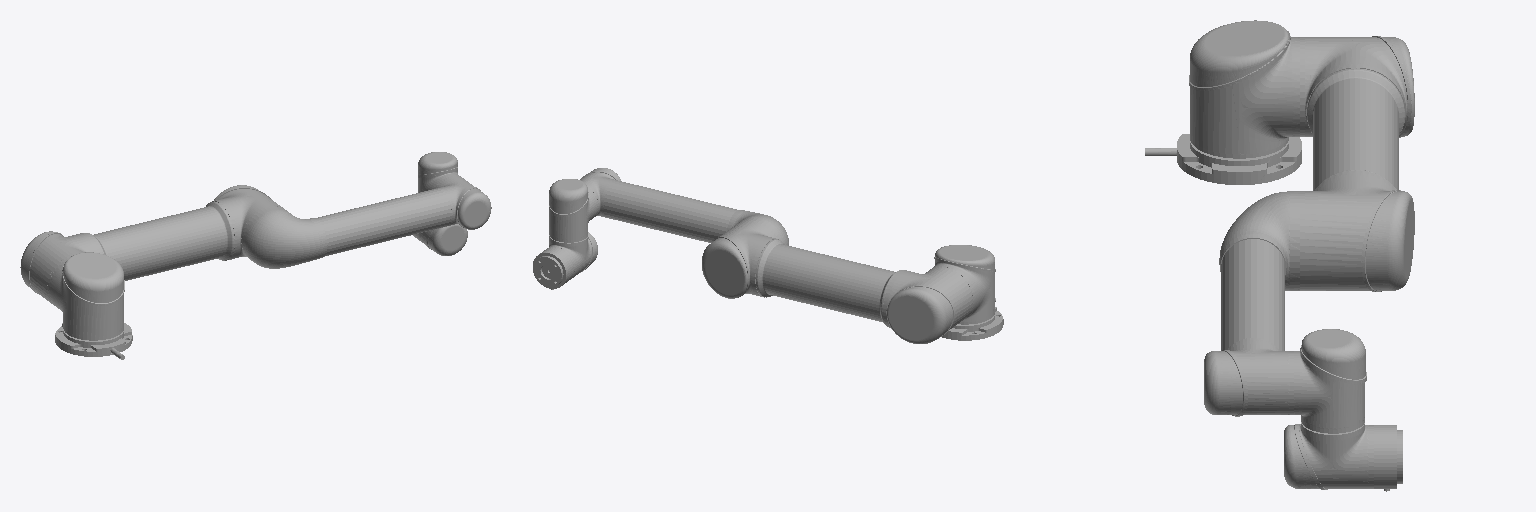
robot.urdf — UniversalRobots_UR5:
<?xml version="1.0"?>
<robot name="UniversalRobots_UR5">
  <link name="BaseLink">
    <visual>
      <geometry>
        <mesh filename="package://Visual/BaseLink.dae" />
      </geometry>
      <material name="LightGrey">
        <color rgba="0.7 0.7 0.7 1.0" />
      </material>
    </visual>
    <collision>
      <geometry>
        <mesh filename="package://Collision/BaseLink.stl" />
      </geometry>
    </collision>
    <inertial>
      <mass value="4.0" />
      <origin rpy="0 0 0" xyz="0.0 0.0 0.0" />
      <inertia ixx="0.00443333156" ixy="0.0" ixz="0.0" iyy="0.00443333156" iyz="0.0" izz="0.0072" />
    </inertial>
  </link>
  <joint name="Joint1" type="revolute">
    <parent link="BaseLink" />
    <child link="Link1" />
    <origin rpy="0.0 0.0 0.0" xyz="0.0 0.0 0.089159" />
    <axis xyz="0 0 1" />
    <limit effort="150.0" lower="-6.28318530718" upper="6.28318530718" velocity="3.15" />
    <dynamics damping="0.0" friction="0.0" />
  </joint>
  <link name="Link1">
    <visual>
      <geometry>
        <mesh filename="package://Visual/Link1.dae" />
      </geometry>
      <material name="LightGrey">
        <color rgba="0.7 0.7 0.7 1.0" />
      </material>
    </visual>
    <collision>
      <geometry>
        <mesh filename="package://Collision/Link1.stl" />
      </geometry>
    </collision>
    <inertial>
      <mass value="3.7" />
      <origin rpy="0 0 0" xyz="0.0 0.0 0.0" />
      <inertia ixx="0.010267495893" ixy="0.0" ixz="0.0" iyy="0.010267495893" iyz="0.0" izz="0.00666" />
    </inertial>
  </link>
  <joint name="Joint2" type="revolute">
    <parent link="Link1" />
    <child link="Link2" />
    <origin rpy="0.0 1.57079632679 0.0" xyz="0.0 0.13585 0.0" />
    <axis xyz="0 1 0" />
    <limit effort="150.0" lower="-6.28318530718" upper="6.28318530718" velocity="3.15" />
    <dynamics damping="0.0" friction="0.0" />
  </joint>
  <link name="Link2">
    <visual>
      <geometry>
        <mesh filename="package://Visual/Link2.dae" />
      </geometry>
      <material name="LightGrey">
        <color rgba="0.7 0.7 0.7 1.0" />
      </material>
    </visual>
    <collision>
      <geometry>
        <mesh filename="package://Collision/Link2.stl" />
      </geometry>
    </collision>
    <inertial>
      <mass value="8.393" />
      <origin rpy="0 0 0" xyz="0.0 0.0 0.28" />
      <inertia ixx="0.22689067591" ixy="0.0" ixz="0.0" iyy="0.22689067591" iyz="0.0" izz="0.0151074" />
    </inertial>
  </link>
  <joint name="Joint3" type="revolute">
    <parent link="Link2" />
    <child link="Link3" />
    <origin rpy="0.0 0.0 0.0" xyz="0.0 -0.1197 0.425" />
    <axis xyz="0 1 0" />
    <limit effort="150.0" lower="-2.792526803190927" upper="2.792526803190927" velocity="3.15" />
    <dynamics damping="0.0" friction="0.0" />
  </joint>
  <link name="Link3">
    <visual>
      <geometry>
        <mesh filename="package://Visual/Link3.dae" />
      </geometry>
      <material name="LightGrey">
        <color rgba="0.7 0.7 0.7 1.0" />
      </material>
    </visual>
    <collision>
      <geometry>
        <mesh filename="package://Collision/Link3.stl" />
      </geometry>
    </collision>
    <inertial>
      <mass value="2.275" />
      <origin rpy="0 0 0" xyz="0.0 0.0 0.25" />
      <inertia ixx="0.049443313556" ixy="0.0" ixz="0.0" iyy="0.049443313556" iyz="0.0" izz="0.004095" />
    </inertial>
  </link>
  <joint name="Joint4" type="revolute">
    <parent link="Link3" />
    <child link="Link4" />
    <origin rpy="0.0 1.57079632679 0.0" xyz="0.0 0.0 0.39225" />
    <axis xyz="0 1 0" />
    <limit effort="28.0" lower="-6.28318530718" upper="6.28318530718" velocity="3.2" />
    <dynamics damping="0.0" friction="0.0" />
  </joint>
  <link name="Link4">
    <visual>
      <geometry>
        <mesh filename="package://Visual/Link4.dae" />
      </geometry>
      <material name="LightGrey">
        <color rgba="0.7 0.7 0.7 1.0" />
      </material>
    </visual>
    <collision>
      <geometry>
        <mesh filename="package://Collision/Link4.stl" />
      </geometry>
    </collision>
    <inertial>
      <mass value="1.219" />
      <origin rpy="0 0 0" xyz="0.0 0.0 0.0" />
      <inertia ixx="0.111172755531" ixy="0.0" ixz="0.0" iyy="0.111172755531" iyz="0.0" izz="0.21942" />
    </inertial>
  </link>
  <joint name="Joint5" type="revolute">
    <parent link="Link4" />
    <child link="Link5" />
    <origin rpy="0.0 0.0 0.0" xyz="0.0 0.093 0.0" />
    <axis xyz="0 0 1" />
    <limit effort="28.0" lower="-6.28318530718" upper="6.28318530718" velocity="3.2" />
    <dynamics damping="0.0" friction="0.0" />
  </joint>
  <link name="Link5">
    <visual>
      <geometry>
        <mesh filename="package://Visual/Link5.dae" />
      </geometry>
      <material name="LightGrey">
        <color rgba="0.7 0.7 0.7 1.0" />
      </material>
    </visual>
    <collision>
      <geometry>
        <mesh filename="package://Collision/Link5.stl" />
      </geometry>
    </collision>
    <inertial>
      <mass value="1.219" />
      <origin rpy="0 0 0" xyz="0.0 0.0 0.0" />
      <inertia ixx="0.111172755531" ixy="0.0" ixz="0.0" iyy="0.111172755531" iyz="0.0" izz="0.21942" />
    </inertial>
  </link>
  <joint name="Joint6" type="revolute">
    <parent link="Link5" />
    <child link="Link6" />
    <origin rpy="0.0 0.0 0.0" xyz="0.0 0.0 0.09465" />
    <axis xyz="0 1 0" />
    <limit effort="28.0" lower="-6.28318530718" upper="6.28318530718" velocity="3.2" />
    <dynamics damping="0.0" friction="0.0" />
  </joint>
  <link name="Link6">
    <visual>
      <geometry>
        <mesh filename="package://Visual/Link6.dae" />
      </geometry>
      <material name="LightGrey">
        <color rgba="0.7 0.7 0.7 1.0" />
      </material>
    </visual>
    <collision>
      <geometry>
        <mesh filename="package://Collision/Link6.stl" />
      </geometry>
    </collision>
    <inertial>
      <mass value="0.1879" />
      <origin rpy="0 0 0" xyz="0.0 0.0 0.0" />
      <inertia ixx="0.0171364731454" ixy="0.0" ixz="0.0" iyy="0.0171364731454" iyz="0.0" izz="0.033822" />
    </inertial>
  </link>
  <joint name="JointEffector" type="fixed">
    <parent link="Link6" />
    <child link="EffectorLink" />
    <origin rpy="0.0 0.0 1.57079632679" xyz="0.0 0.0823 0.0" />
  </joint>
  <link name="EffectorLink" />

  <manipulator_info>
    <manip name="Arm" />
    <base_link name="BaseLink" />
    <ee_link name="EffectorLink" />
    <T_e_t pose="0 0 0 0 0 0 1" />
    <dof_weights weight="2.096 1.625 1.12 0.51 0.406 0.244" />
    <home_position position="0.0 -2.3561 1.57 -0.7853 0.0 0.0" />
  </manipulator_info>

  <chain_pair>
    <base name="Joint1"/>
    <end name="JointEffector"/>
  </chain_pair>

  <controller_info>
    <controller_box name="CB Series" software_version="" />
    <status jog="Yes" upload_file="Yes" generate_program="Yes" />
  </controller_info>


  <general_info>
    <brand name="UniversalRobots" />
    <dof value="6" />
    <type name="Robot" />
    <payload value="5" />
    <weight value="18" />
    <reach value="850" />
    <repeat value="0.100" />
    <image filename="package://UR5.png" />
  </general_info>

  <bounding_box>
    <pose value="0.3913 0.0472 0.0546 0.0000 0.0000 0.0000 1.0000" />
    <size length="0.9299" width="0.3144" height="0.2061" />
  </bounding_box>

  <self_collision>
    <enable_pair link_first="BaseLink" link_second="Link2" />
    <enable_pair link_first="Link2" link_second="Link5" />
    <enable_pair link_first="Link3" link_second="Link6" />
    <enable_pair link_first="BaseLink" link_second="Link5" />
    <enable_pair link_first="Link2" link_second="Link6" />
    <enable_pair link_first="Link1" link_second="Link5" />
    <enable_pair link_first="BaseLink" link_second="Link6" />
    <enable_pair link_first="Link3" link_second="Link5" />
    <enable_pair link_first="Link1" link_second="Link6" />
    <enable_pair link_first="BaseLink" link_second="Link3" />
  </self_collision>
</robot>

--- What the picture shows (computed from the rendered views, not written in the file) ---
Views: 3 orthographic renders of the robot side by side, from view 1: azimuth 30°, elevation 25°; view 2: azimuth 150°, elevation 25°; view 3: azimuth 270°, elevation 25°.
Model UniversalRobots_UR5 with 8 links and 7 joints (6 revolute, 1 fixed), rooted at BaseLink, posed all joints at 0.
Visible links, largest first — view 1: Link2, Link3, Link1, BaseLink, Link4, Link5; view 2: Link2, Link3, Link1, Link4, Link6, Link5, BaseLink; view 3: Link2, Link3, Link1, Link4, Link5, BaseLink, Link6.
Boxes of the visible links, x1,y1,x2,y2 form: Link2: (20,185,283,305); Link3: (243,175,491,268); Link1: (49,252,124,340); BaseLink: (55,323,132,359); Link4: (418,152,458,192); Link5: (413,224,467,255); Link2: (702,220,972,343); Link3: (580,168,788,245); Link1: (933,245,995,324); Link4: (549,179,597,242); Link6: (533,248,572,289); Link5: (547,232,597,279); BaseLink: (942,298,1003,340); Link2: (1300,36,1414,291); Link3: (1204,191,1299,416); Link1: (1189,20,1299,158); Link4: (1294,329,1366,433); Link5: (1284,422,1373,489); BaseLink: (1145,134,1301,184); Link6: (1374,425,1402,491).
Bounding box of the posed robot: 0.9295 × 0.3144 × 0.2062 m (x, y, z).
Meshes: 7 distinct files referenced, 7 mesh visuals loaded (7 Collada DAE).